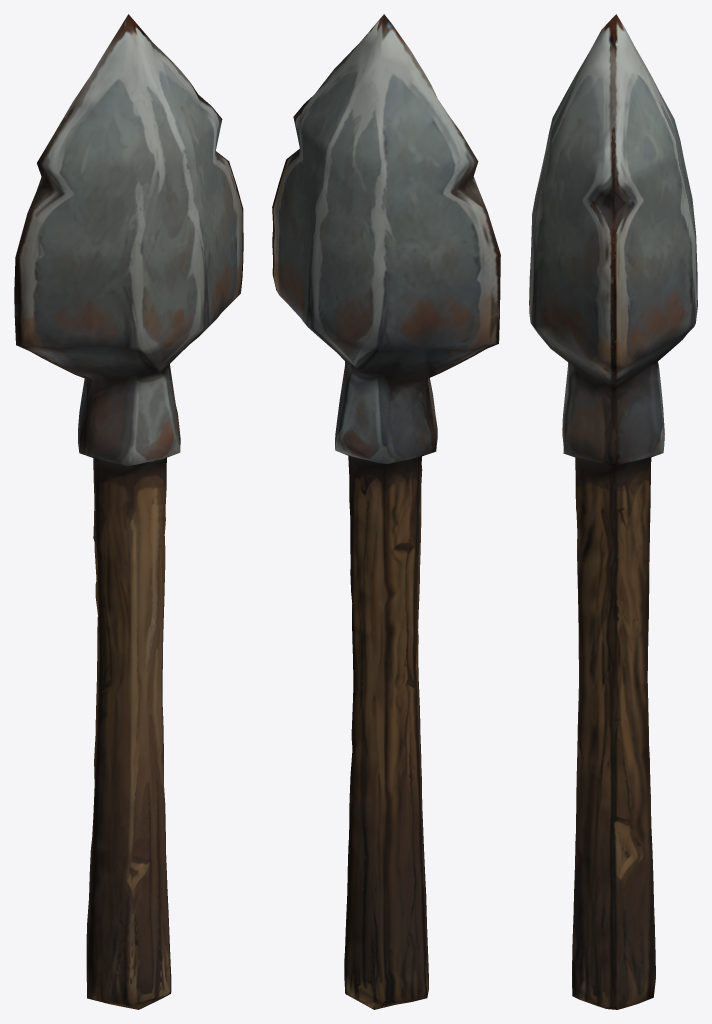
File: Prop_Weapon_ShortSpear.fbx
3 views of the same model, side by side, from view 1: azimuth 30°, elevation 25°; view 2: azimuth 150°, elevation 25°; view 3: azimuth 270°, elevation 25° (orthographic).
Parts seen in each view (by area): view 1: texture_mapping; view 2: texture_mapping; view 3: texture_mapping.
Part boxes in pixels (x1,y1,x2,y2): texture_mapping: [14, 14, 243, 1009]; texture_mapping: [272, 14, 500, 1009]; texture_mapping: [529, 14, 697, 1009].
Bounding box in the file's own units: 0.2419 × 0.1542 × 0.9981.
Materials: 1 (1 with a texture image).
